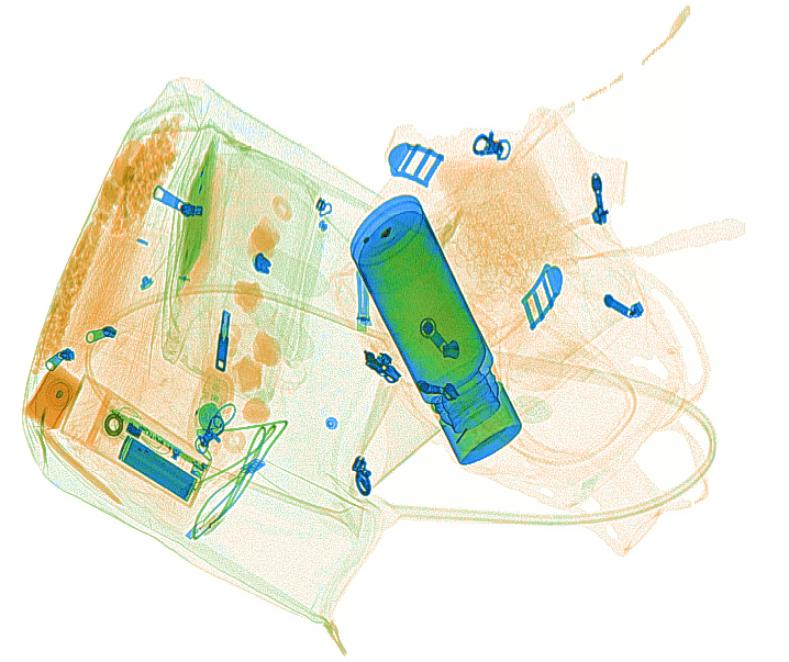battery: (117, 435, 197, 502)
plasticBottleWithaNozzle: (23, 362, 83, 433)
